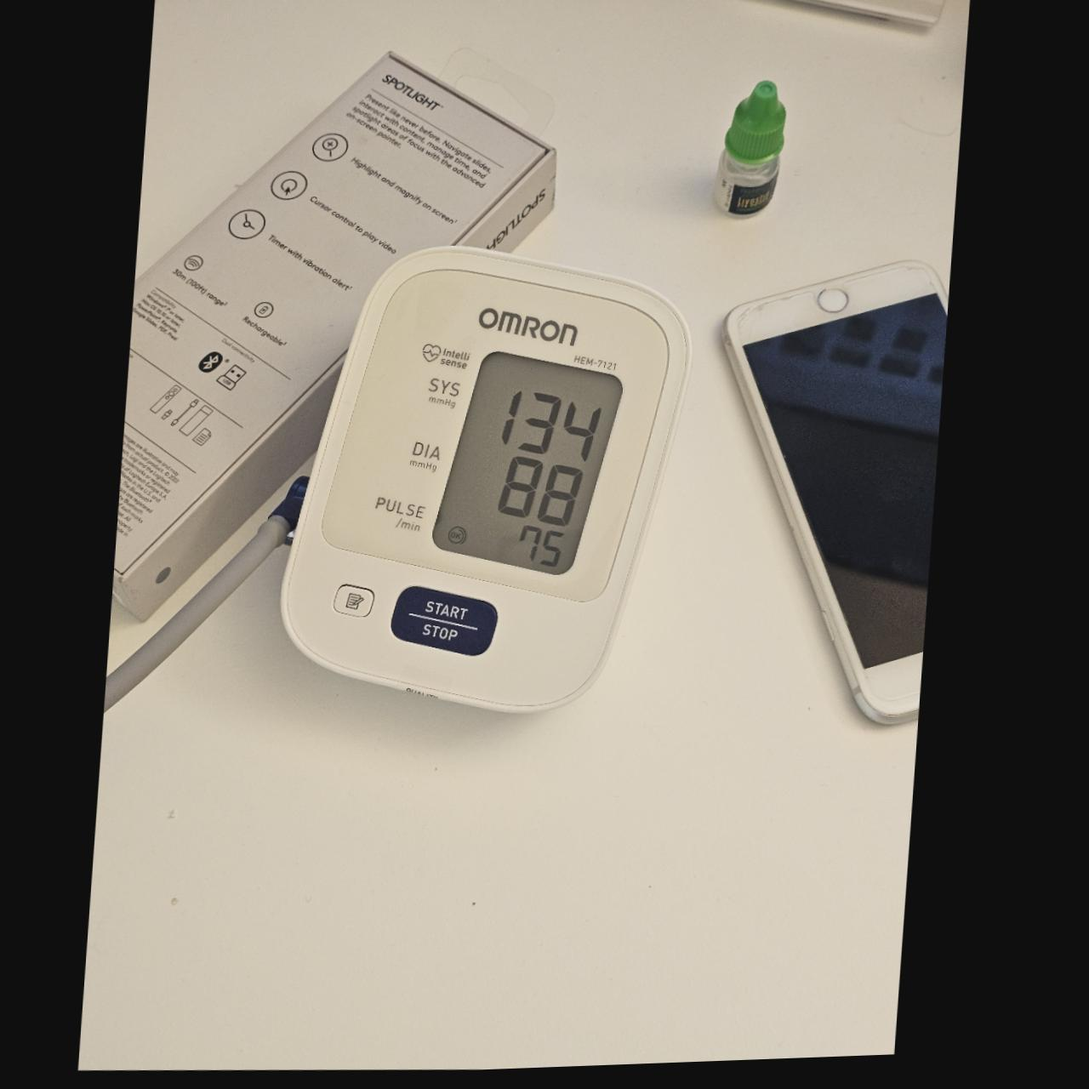lcd display: (426, 344, 626, 584)
